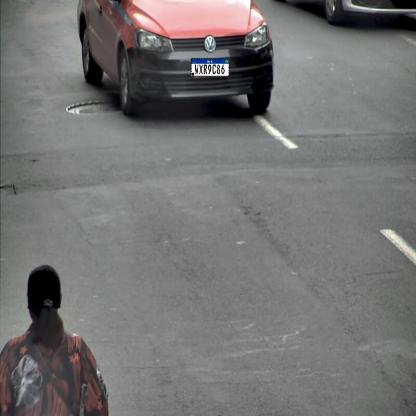PlacaM: (191, 58, 229, 77)
